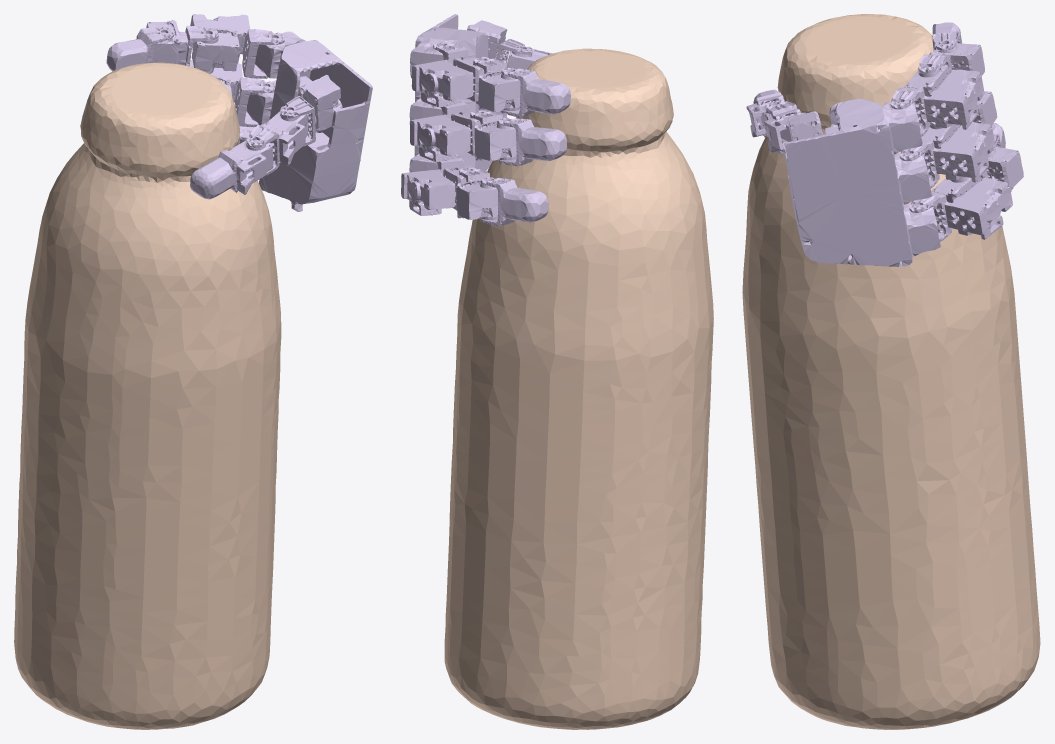
3 views of the same model, side by side, from view 1: azimuth 30°, elevation 25°; view 2: azimuth 150°, elevation 25°; view 3: azimuth 270°, elevation 25° (orthographic). The views are drawn at different scales.
Parts seen in each view (by area): view 1: world, LEAP_hand; view 2: world, LEAP_hand; view 3: world, LEAP_hand.
Boxes of the visible parts, left/top/right/bottom form: world: left=14, top=62, right=281, bottom=729; LEAP_hand: left=106, top=14, right=372, bottom=211; world: left=444, top=48, right=713, bottom=729; LEAP_hand: left=401, top=14, right=570, bottom=226; world: left=742, top=14, right=1040, bottom=729; LEAP_hand: left=746, top=22, right=1023, bottom=266.
Bounding box in the file's own units: 0.2638 × 0.5597 × 0.2246.
